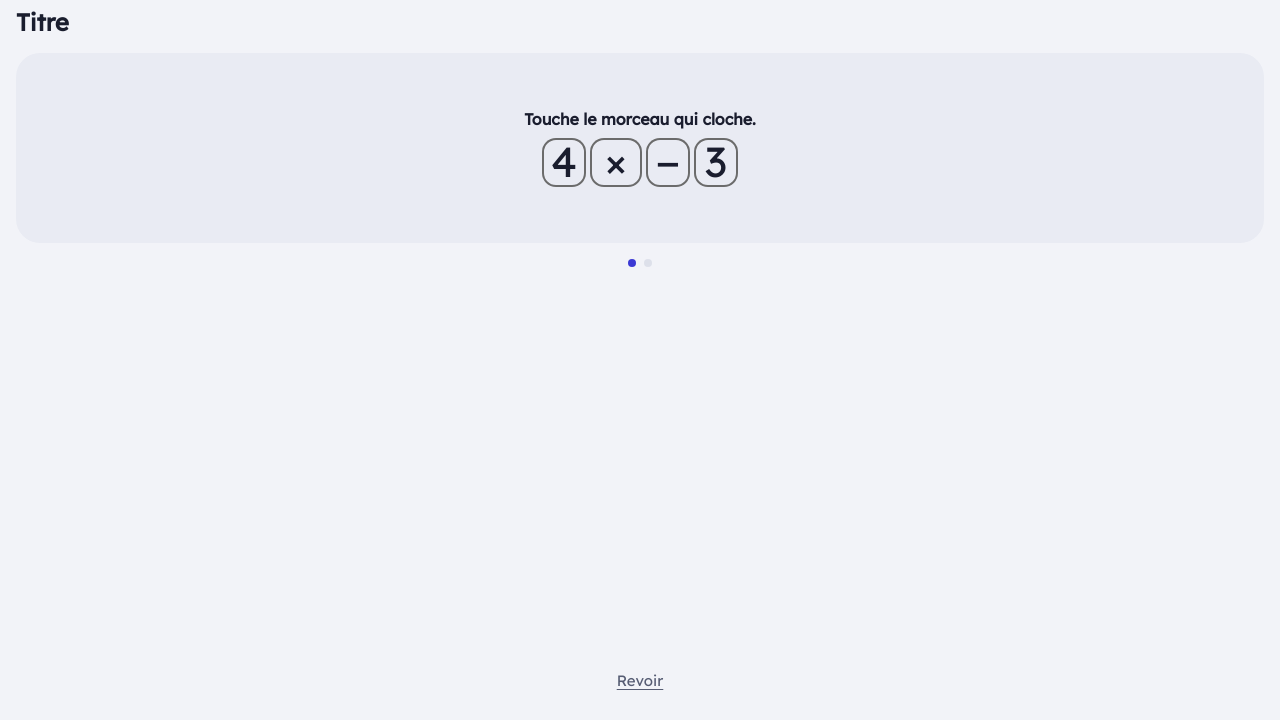
Test: Etapes : actions interactives › morceau : mauvais token → message, bon → texte et « Suite »
Click the button "4": coordinates (564, 163) x1=542 y1=138 x2=586 y2=187
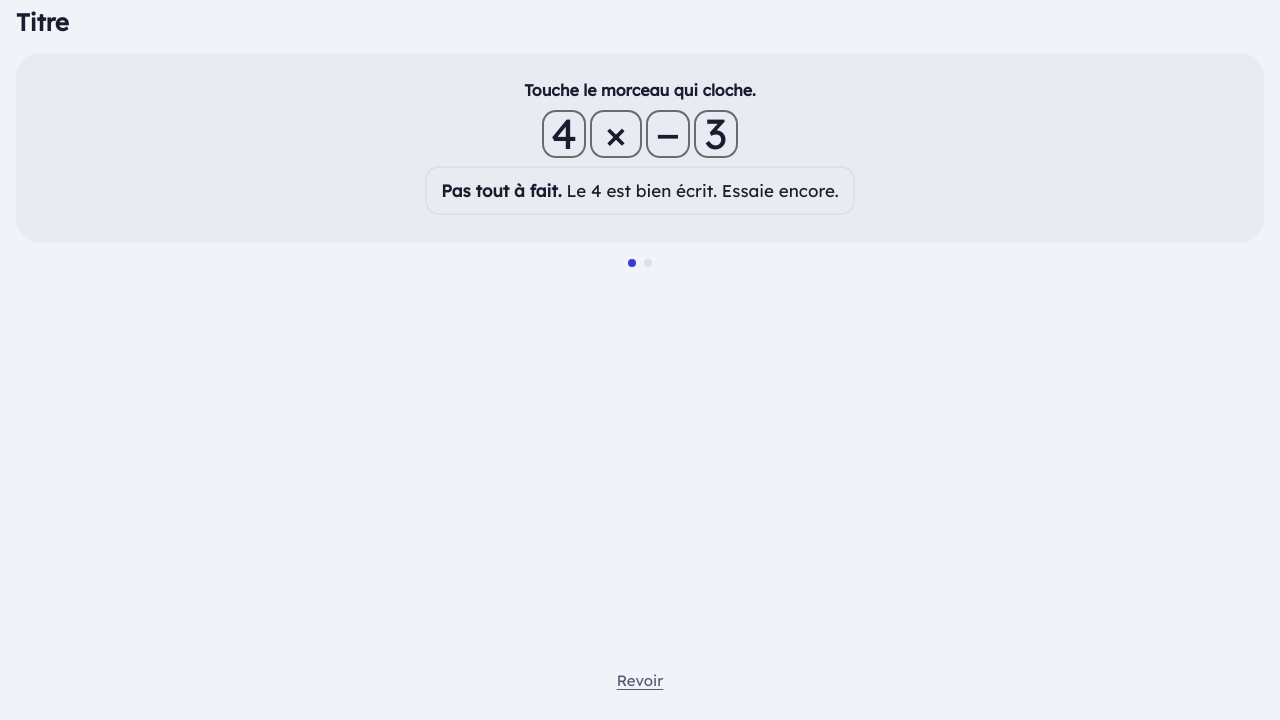
Now the message with class "etape-error" reads "Pas tout à fait. Le 4 est bien écrit. Essaie encore.", box x1=425 y1=166 x2=855 y2=216
Click the button "−": coordinates (668, 134) x1=646 y1=110 x2=690 y2=158
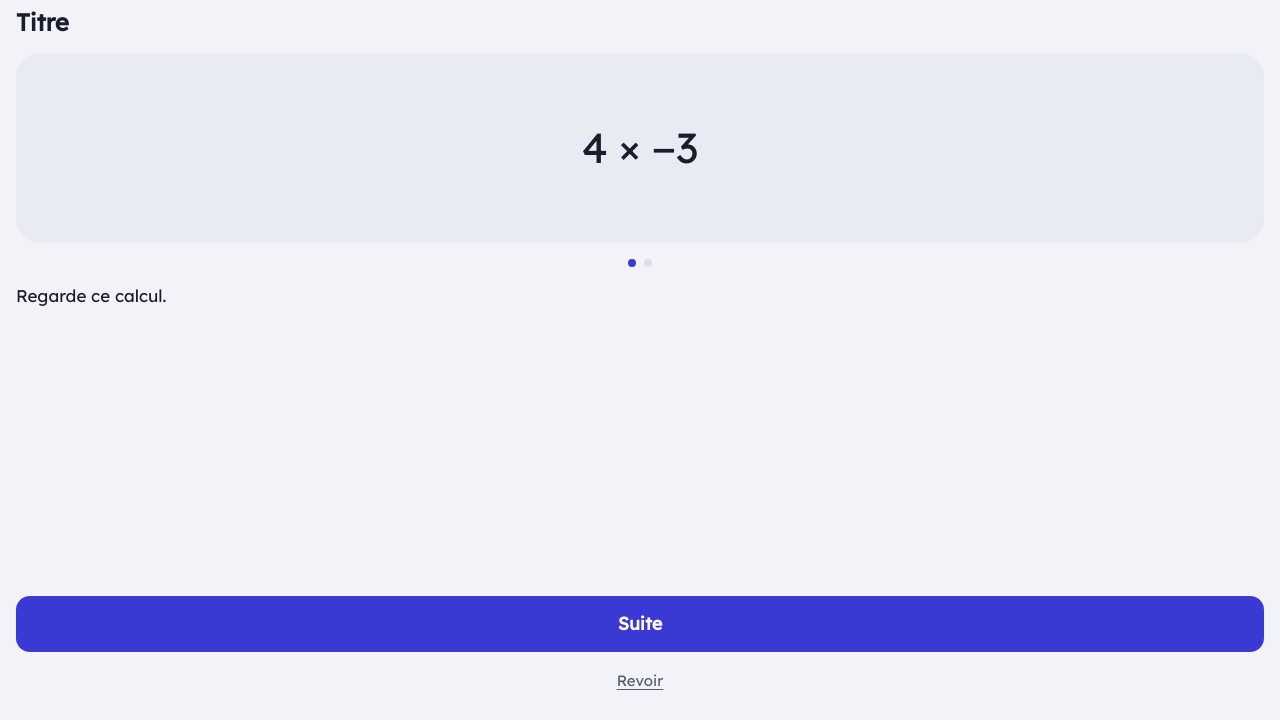
Now the message with class "etape-error" is gone
Now the button "Suite" is shown, box x1=16 y1=596 x2=1264 y2=652
